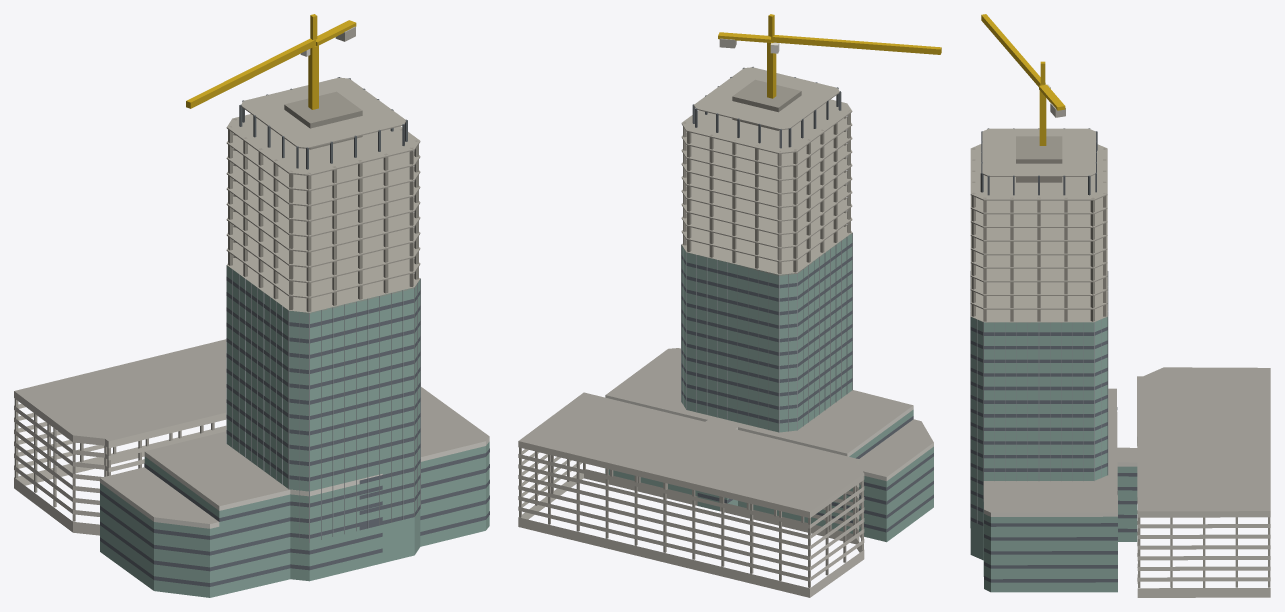
The model's file is stephens-building-under-construction.glb.
3 renders of one model, left to right at view 1: azimuth 30°, elevation 25°; view 2: azimuth 150°, elevation 25°; view 3: azimuth 270°, elevation 25°, orthographic. The views are drawn at different scales.
Parts seen in each view (by area): view 1: stephens_building_under_construction; view 2: stephens_building_under_construction; view 3: stephens_building_under_construction.
Part boxes in pixels (box(x1,y1,x2,y2)): stephens_building_under_construction: box(14, 14, 489, 597); stephens_building_under_construction: box(518, 14, 941, 597); stephens_building_under_construction: box(970, 14, 1270, 597).
Size of the model in its own units: 88.58 by 134 by 78.09.
